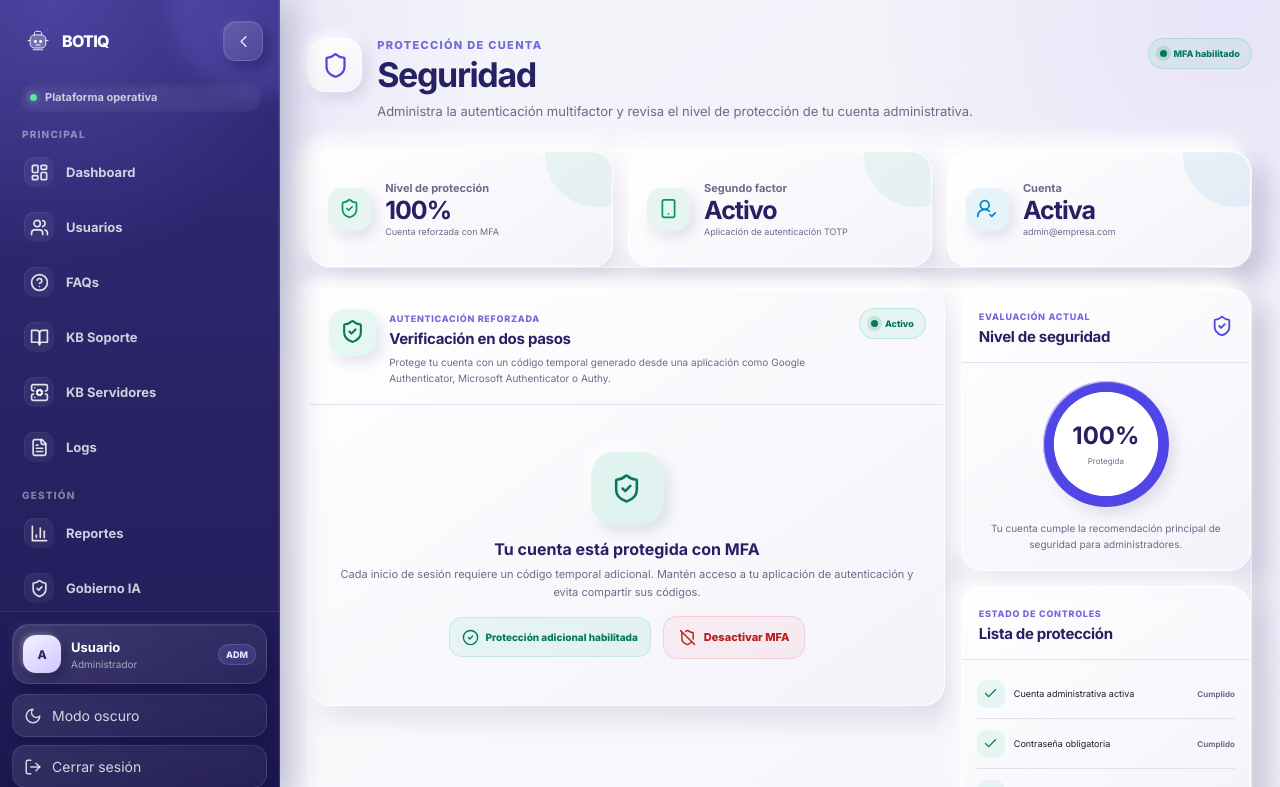
Test: SecurityPage profesional › permite abrir el formulario de desactivación
Click the button "Desactivar MFA" at (734, 637), box [663,616,805,658]
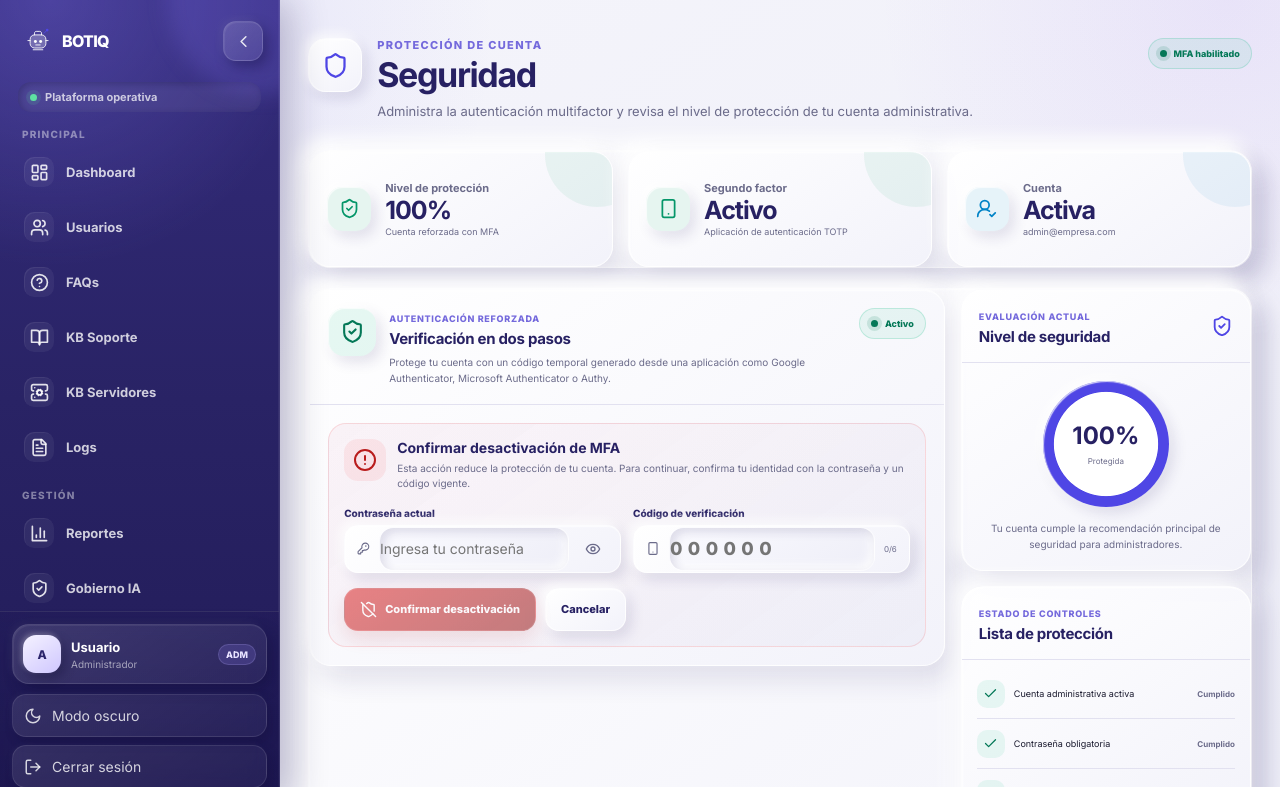
Now the heading "Confirmar desactivación de MFA" is shown, box [397,439,620,456]
Now the password field with placeholder "Ingresa tu contraseña" is shown, box [379,527,569,571]
